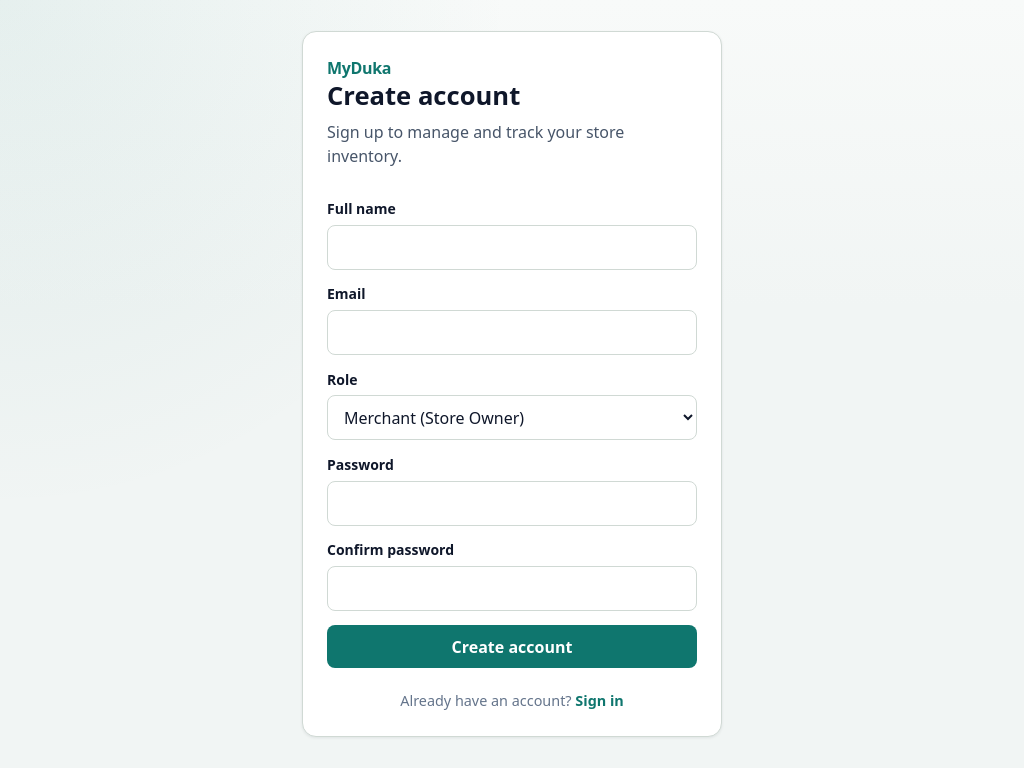
Test: Register › validates password confirmation matching
This screenshot has width=1024, height=768.
In the field labelled "Full name": (512, 247) x1=327 y1=224 x2=697 y2=270, type "Jane Doe"
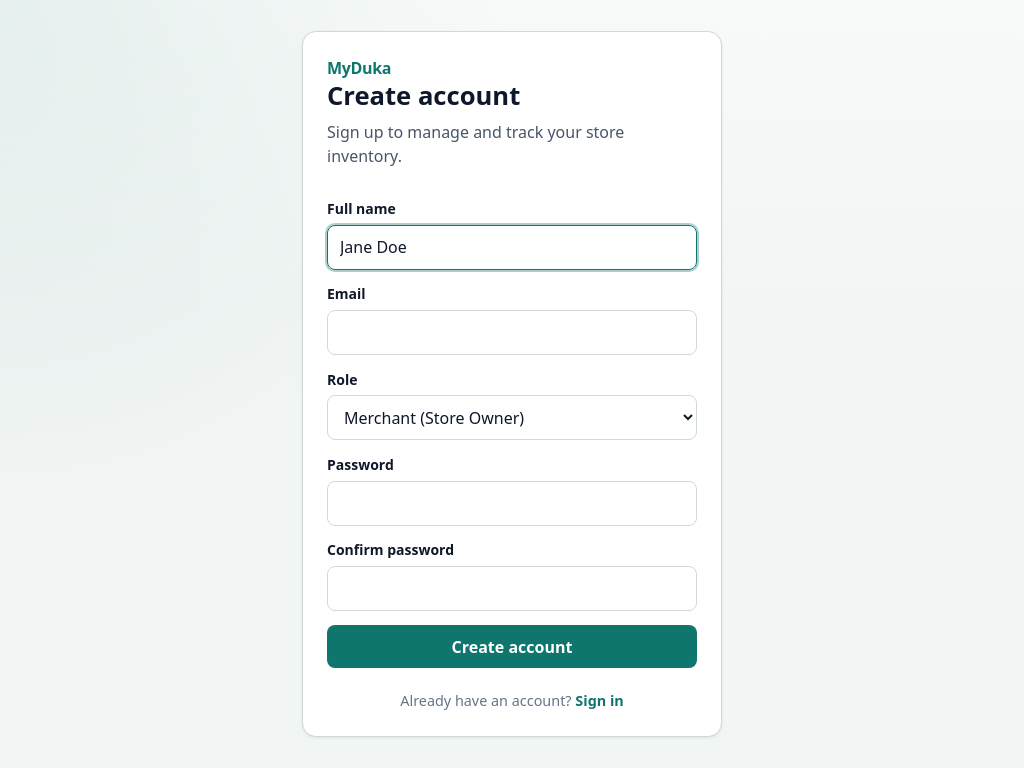
In the field labelled "Email": (512, 332) x1=327 y1=310 x2=697 y2=355, type "jane@example.com"
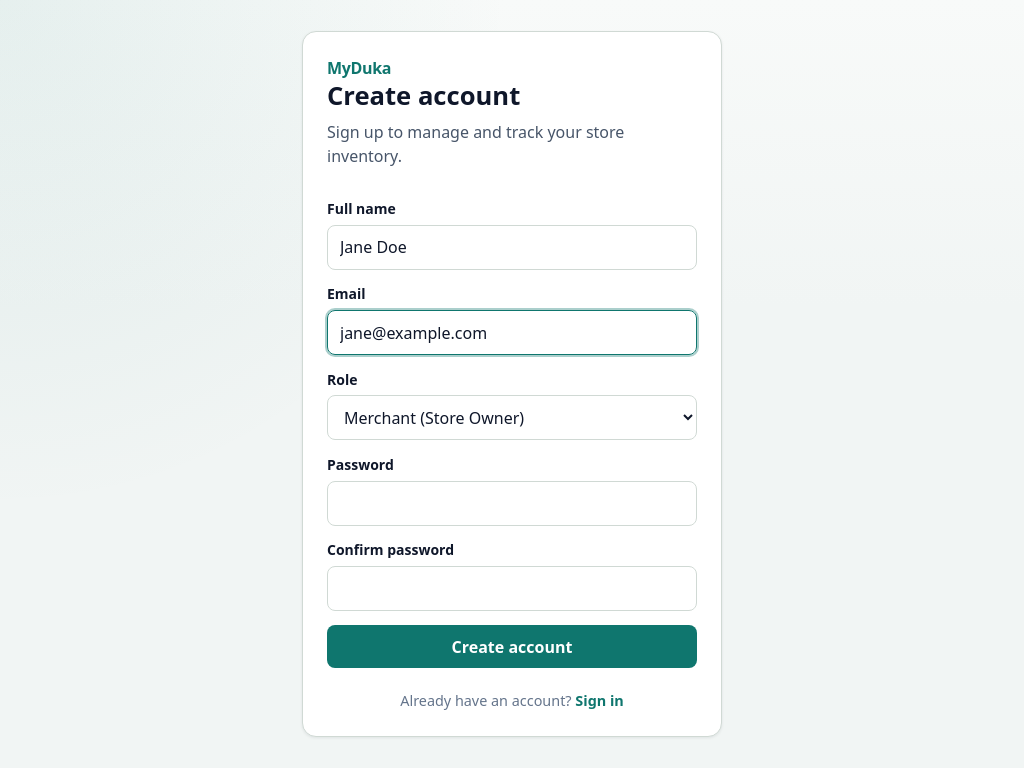
In the password field labelled "Password": (512, 503) x1=327 y1=481 x2=697 y2=526, type "secret123"
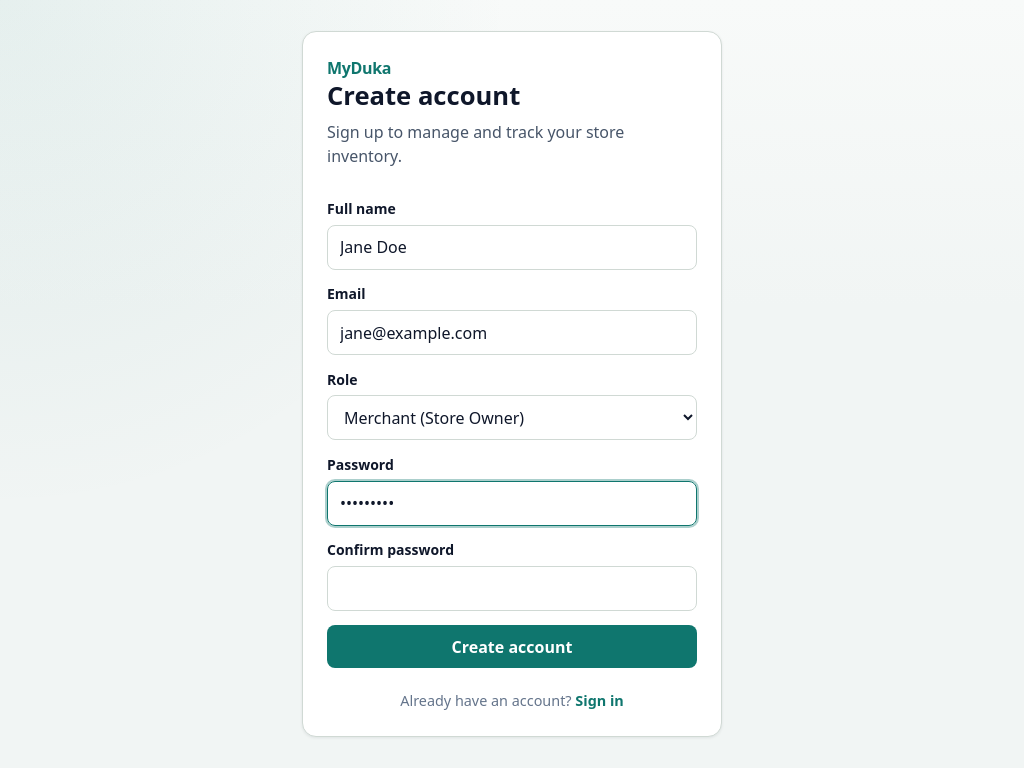
In the password field labelled "Confirm password": (512, 589) x1=327 y1=566 x2=697 y2=611, type "different123"
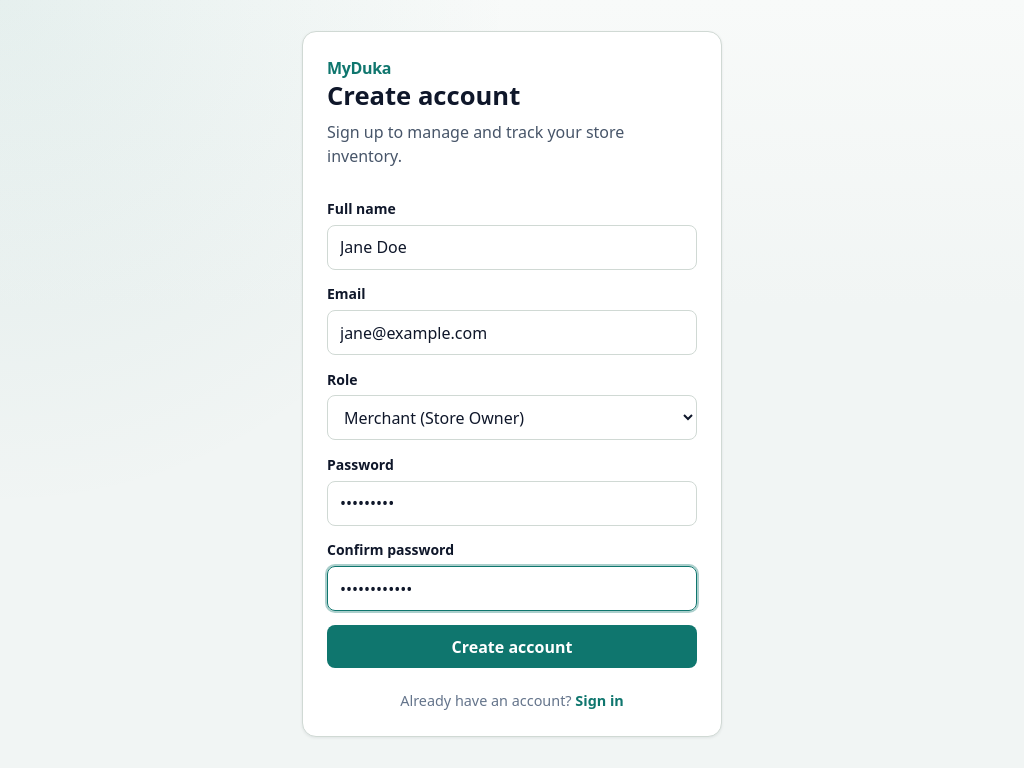
Click the button "Create account": (512, 647) x1=327 y1=625 x2=697 y2=668
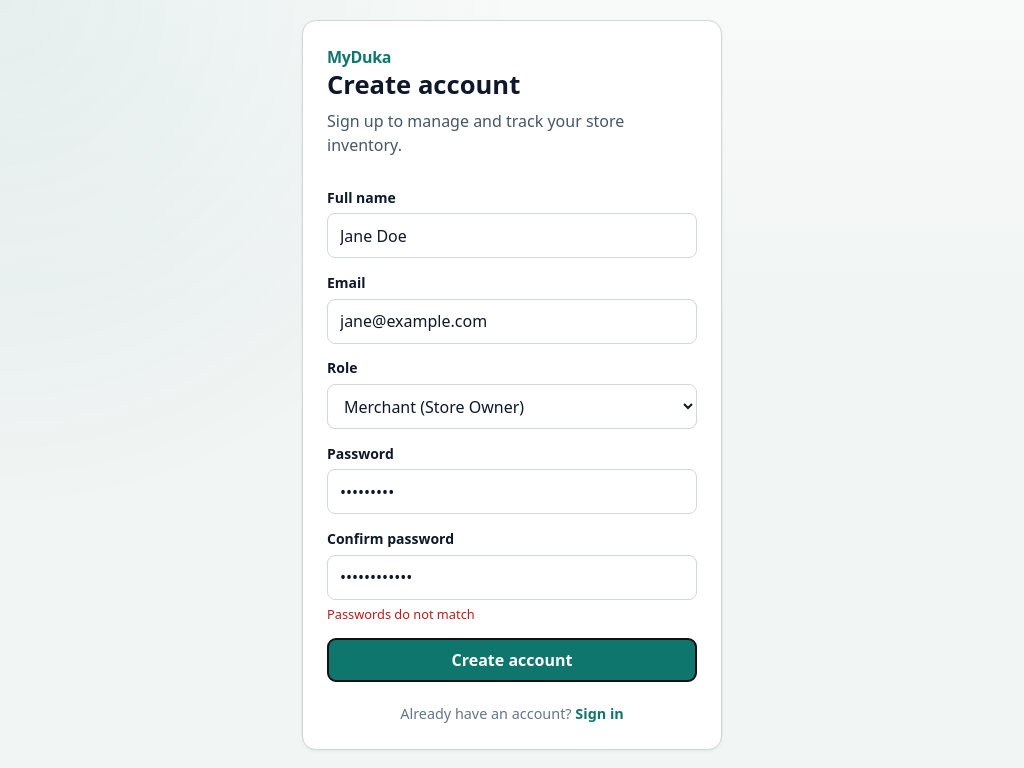
Expected: the text "Passwords do not match" is shown, x1=327 y1=606 x2=475 y2=624
